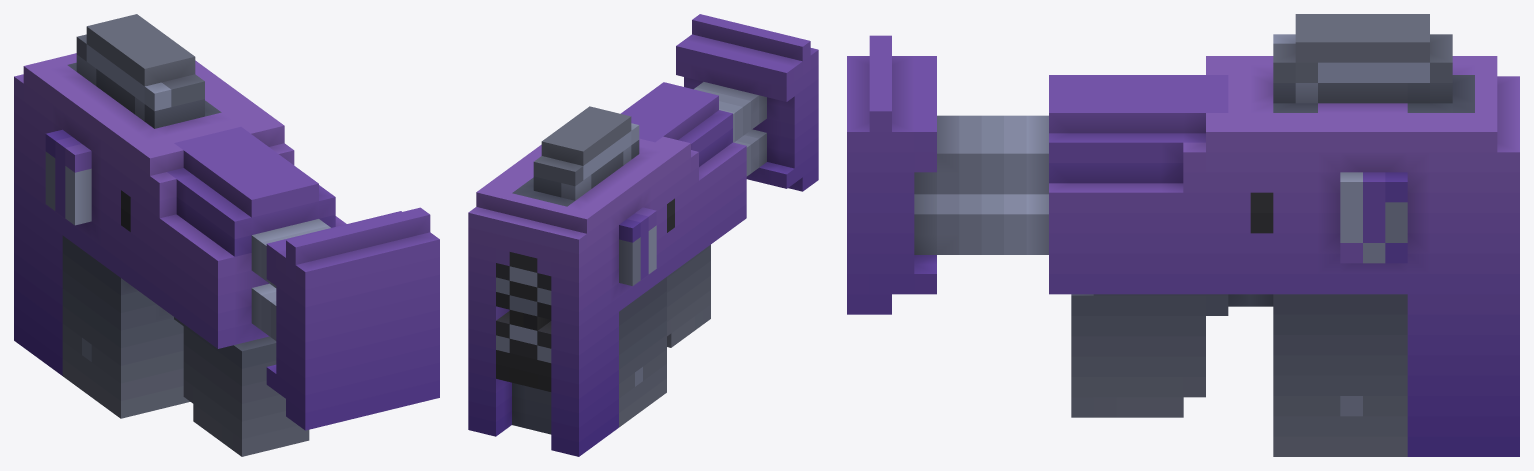
The model's file is blaster_i.glb.
3 renders of one model, left to right at view 1: azimuth 30°, elevation 25°; view 2: azimuth 150°, elevation 25°; view 3: azimuth 270°, elevation 25°, orthographic. The views are drawn at different scales.
Parts seen in each view (by area): view 1: voxels; view 2: voxels; view 3: voxels.
Boxes of the visible parts, box(x1,y1,x2,y2) form: voxels: box(14, 14, 439, 456); voxels: box(468, 14, 818, 456); voxels: box(847, 14, 1519, 456).
Bounding box in the file's own units: 0.1778 × 0.3378 × 0.5333.
